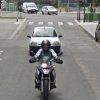Motorcycle: (25, 45, 64, 100)
